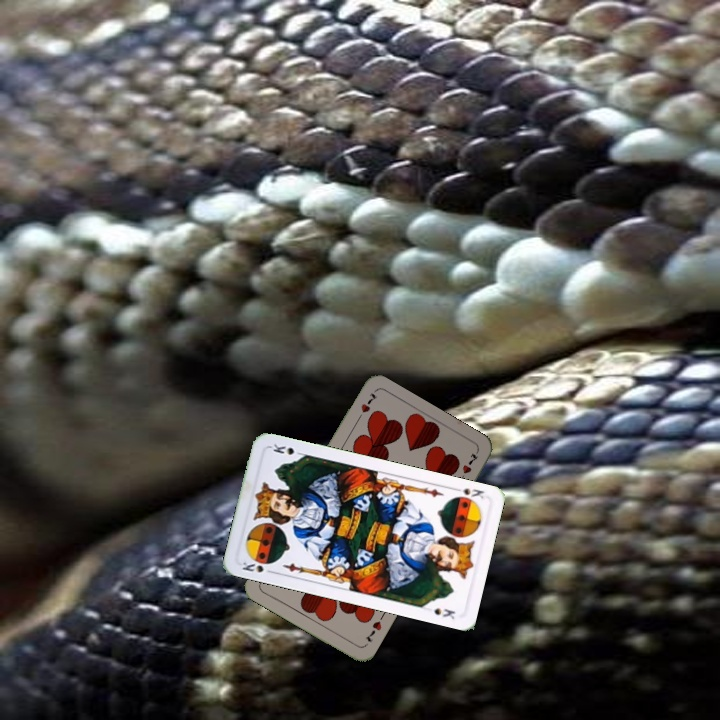H7: (352, 388, 380, 424), (361, 617, 384, 645)
SK: (238, 557, 277, 576), (449, 484, 487, 501)
